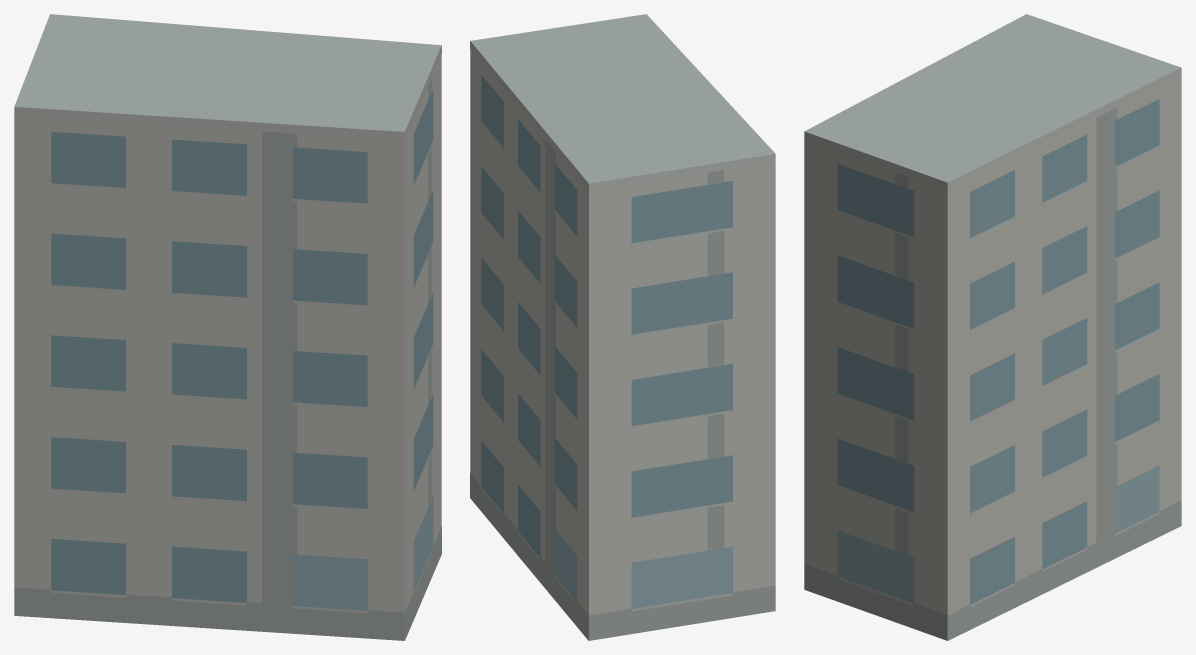
The model's file is survey-upis-32626562.glb.
3 views of the same model, side by side, from view 1: azimuth 30°, elevation 25°; view 2: azimuth 150°, elevation 25°; view 3: azimuth 270°, elevation 25° (orthographic). The views are drawn at different scales.
Parts seen in each view (by area): view 1: survey-upis-32626562.tmp; view 2: survey-upis-32626562.tmp; view 3: survey-upis-32626562.tmp.
Part boxes in pixels (x1=…): survey-upis-32626562.tmp: x1=14, y1=14, x2=441, y2=640; survey-upis-32626562.tmp: x1=470, y1=14, x2=775, y2=640; survey-upis-32626562.tmp: x1=804, y1=14, x2=1181, y2=640.
Bounding box in the file's own units: 10.97 × 13.9 × 10.38.
